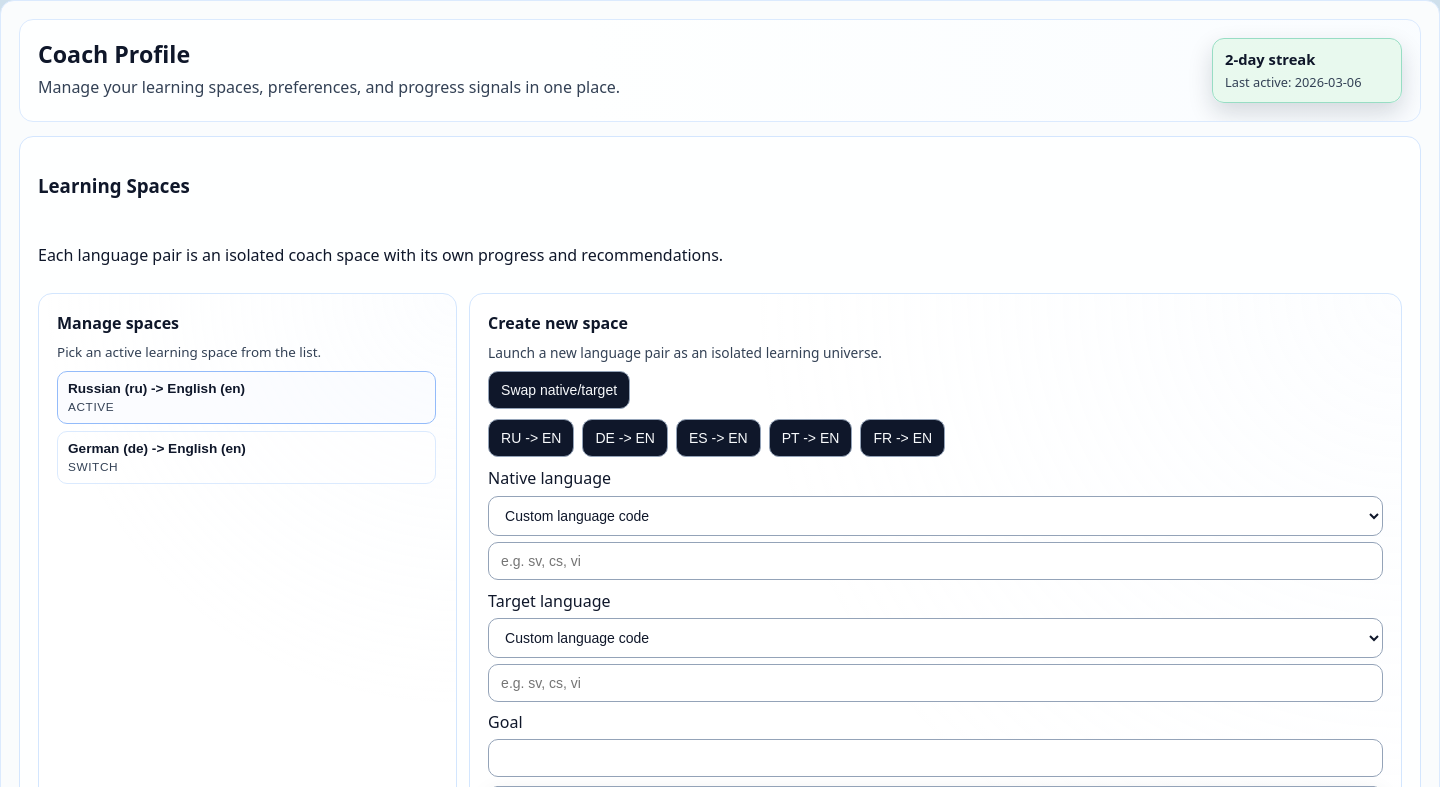
Scenario: ProfilePage › applies preset pair and swap controls in new space builder
The width and height of the screenshot is (1440, 787).
Click the button with aria-label "New space preset DE -> EN": (625, 438) x1=582 y1=419 x2=668 y2=457
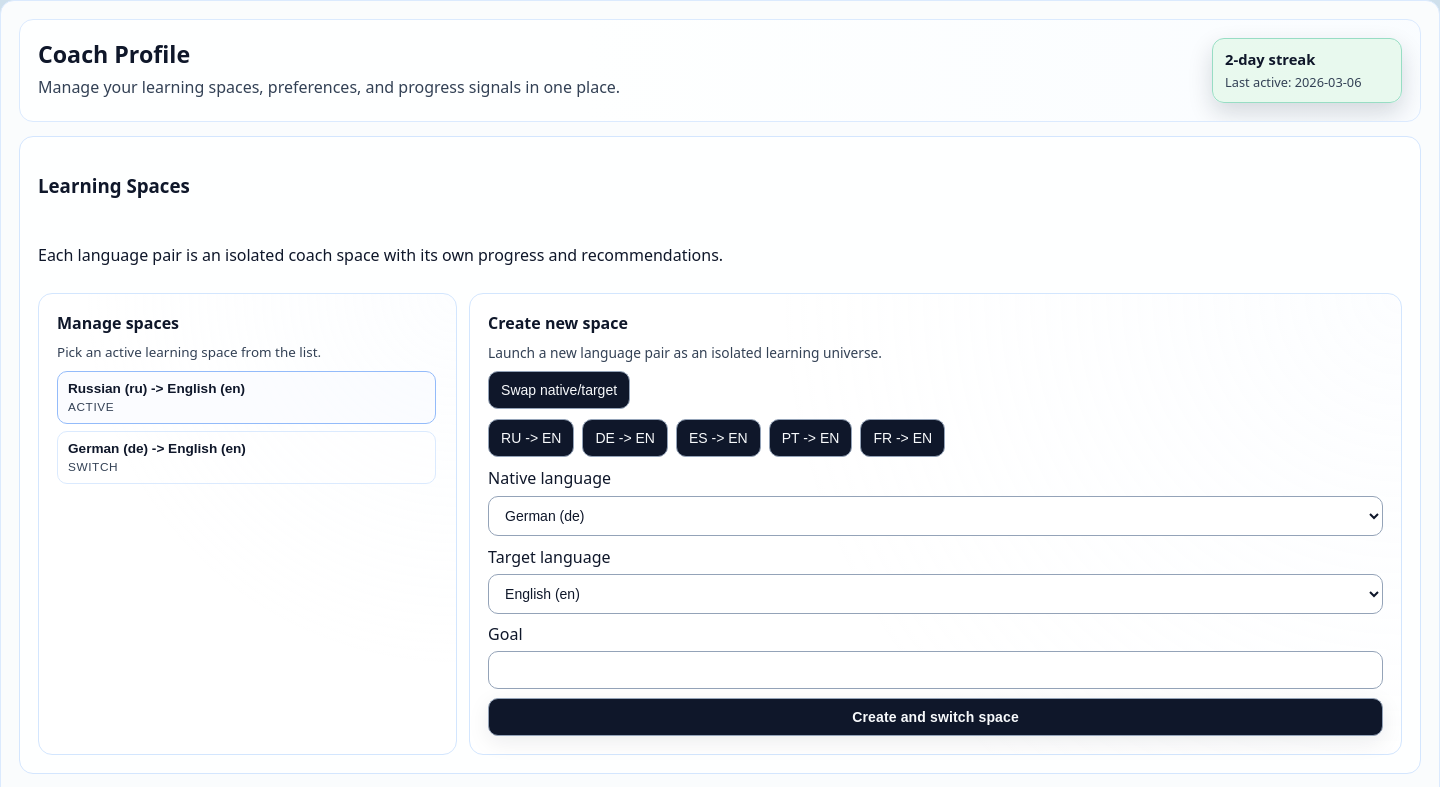
Now the dropdown named "New space native language" shows "German (de)", box x1=488 y1=496 x2=1383 y2=536
Now the dropdown named "New space target language" shows "English (en)", box x1=488 y1=574 x2=1383 y2=614
Click the button with aria-label "New space swap languages": (559, 390) x1=488 y1=371 x2=630 y2=409
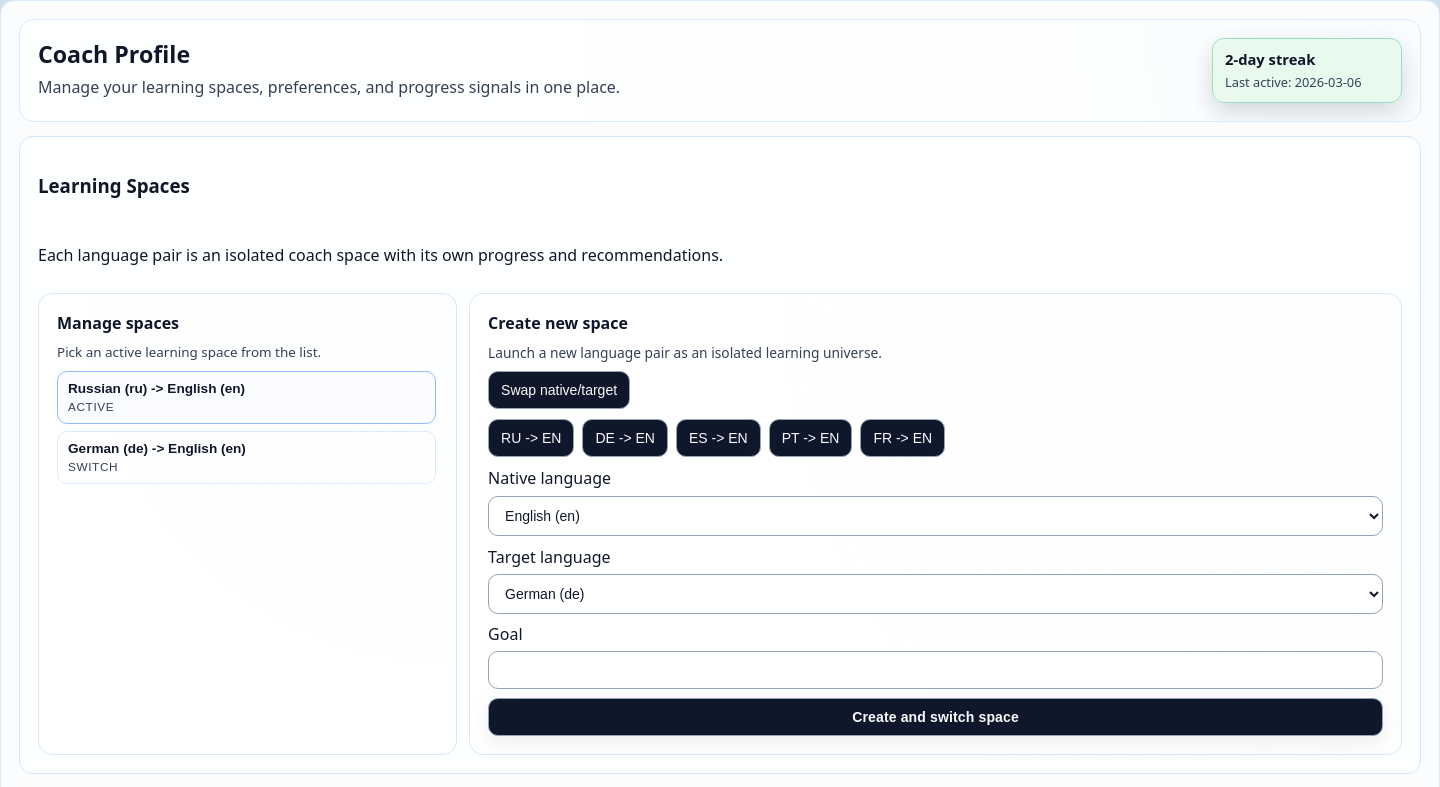
Now the dropdown named "New space native language" shows "English (en)", box x1=488 y1=496 x2=1383 y2=536
Now the dropdown named "New space target language" shows "German (de)", box x1=488 y1=574 x2=1383 y2=614
